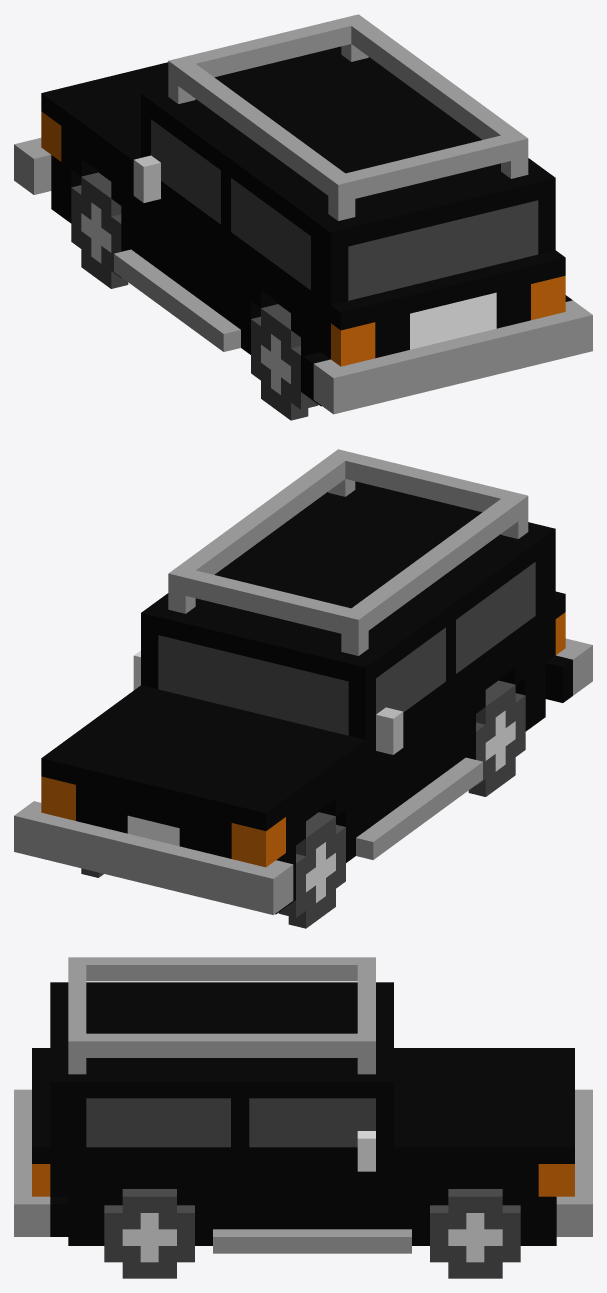
The model's file is car_09.glb.
3 views of the same model, one above another, from view 1: azimuth 30°, elevation 25°; view 2: azimuth 150°, elevation 25°; view 3: azimuth 270°, elevation 25° (orthographic). The views are drawn at different scales.
Parts seen in each view (by area): view 1: ObjObject.003; view 2: ObjObject.003; view 3: ObjObject.003.
Part boxes in pixels (left/top/right/bottom): ObjObject.003: left=14, top=14, right=592, bottom=420; ObjObject.003: left=14, top=449, right=592, bottom=928; ObjObject.003: left=14, top=957, right=592, bottom=1278.
Bounding box in the file's own units: 1.5 × 1.4 × 3.2.
Materials: 1 (1 with a texture image).
